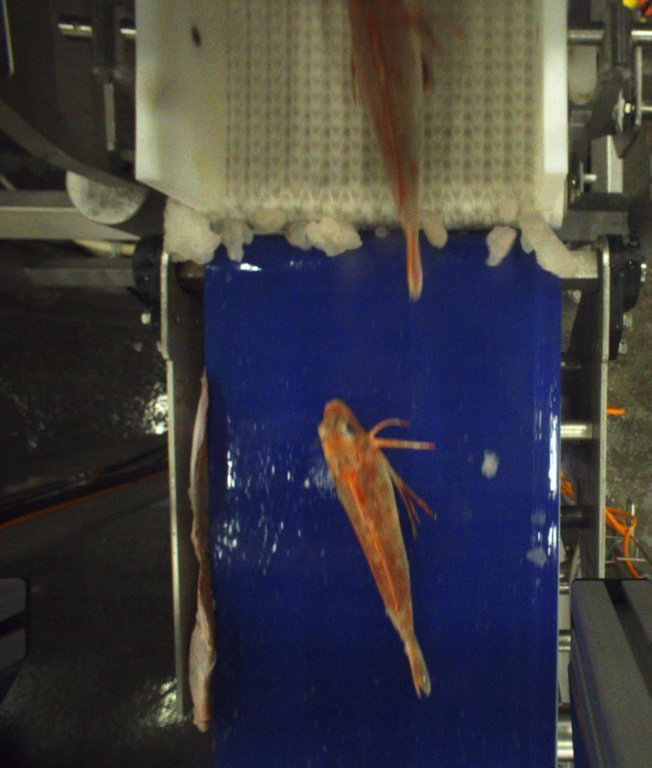GUU: (346, 0, 426, 304)
